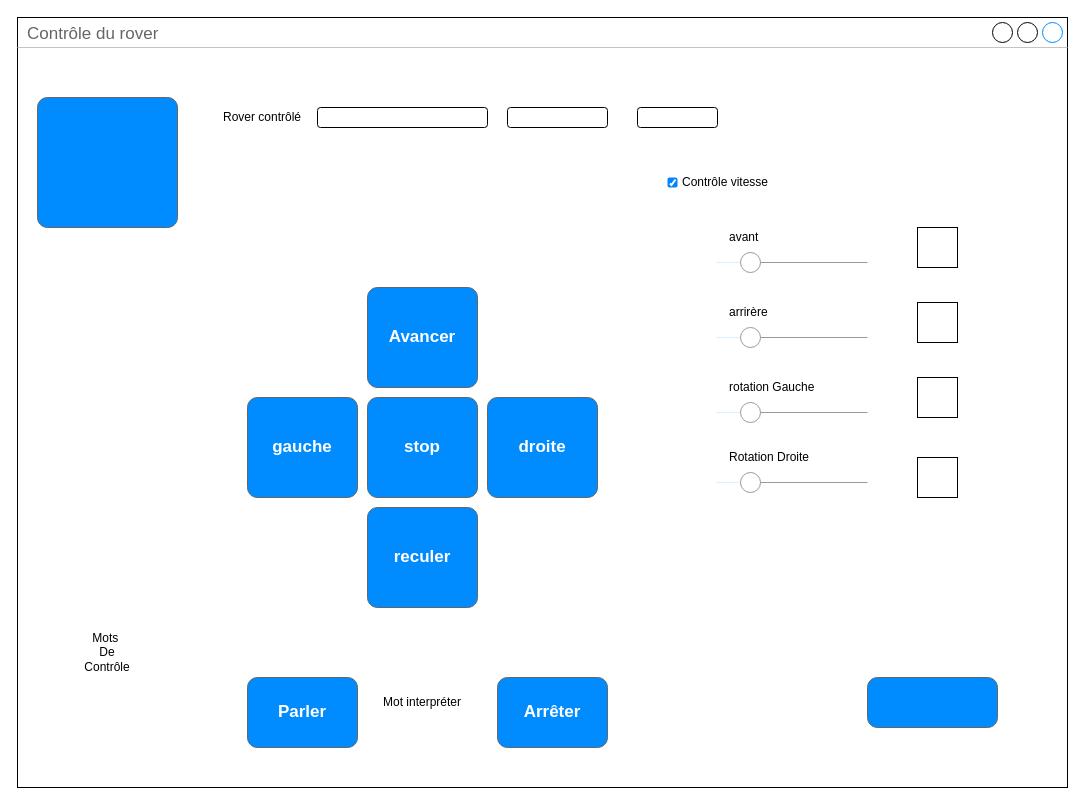
The diagram is 1085 pixels wide and 805 high, and some of its shapes have lost their labels. The centre of each missing label's shape, as x and y in pixels:
"Connexion" belongs at (x=107, y=162).
"Quitter" belongs at (x=932, y=702).
